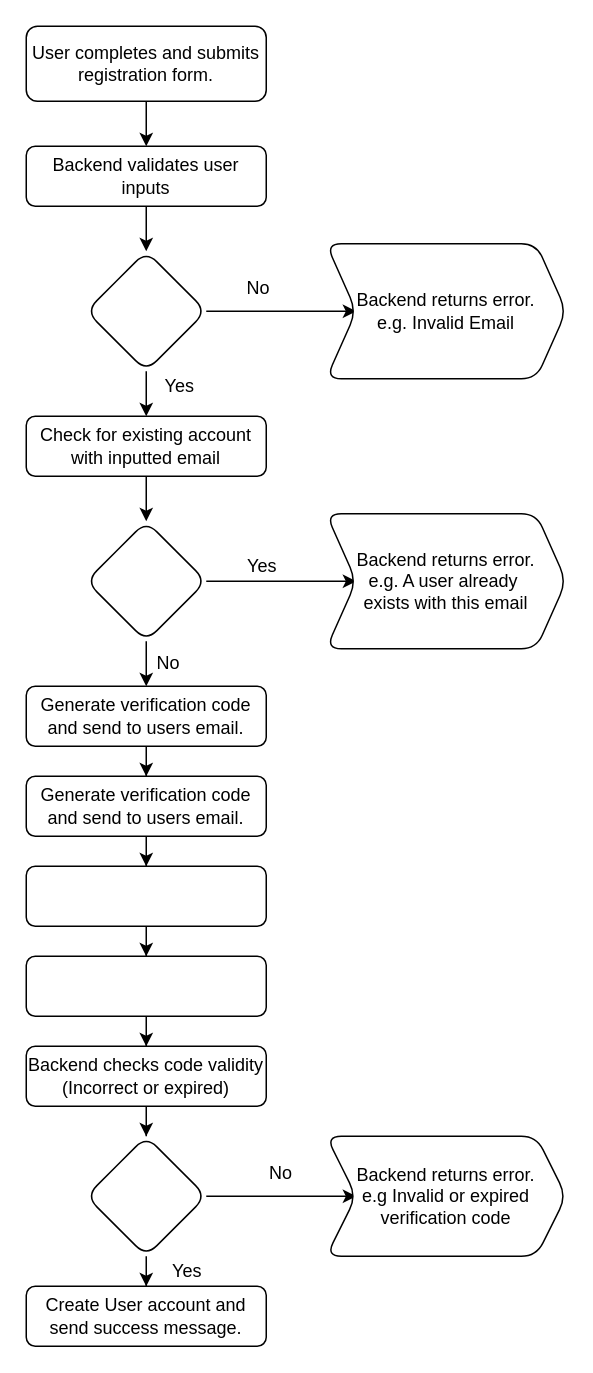
Some shapes in this 593 by 1373 pixel diagram are drawn without their labels. The centre of each missing label's shape, as x and y in pixels:
Account exists?: pixel 145 580
Code Valid?: pixel 145 1195
Input Valid?: pixel 145 310
Store temporary user data along with verification code.: pixel 145 895
User submits verification code.: pixel 145 985
